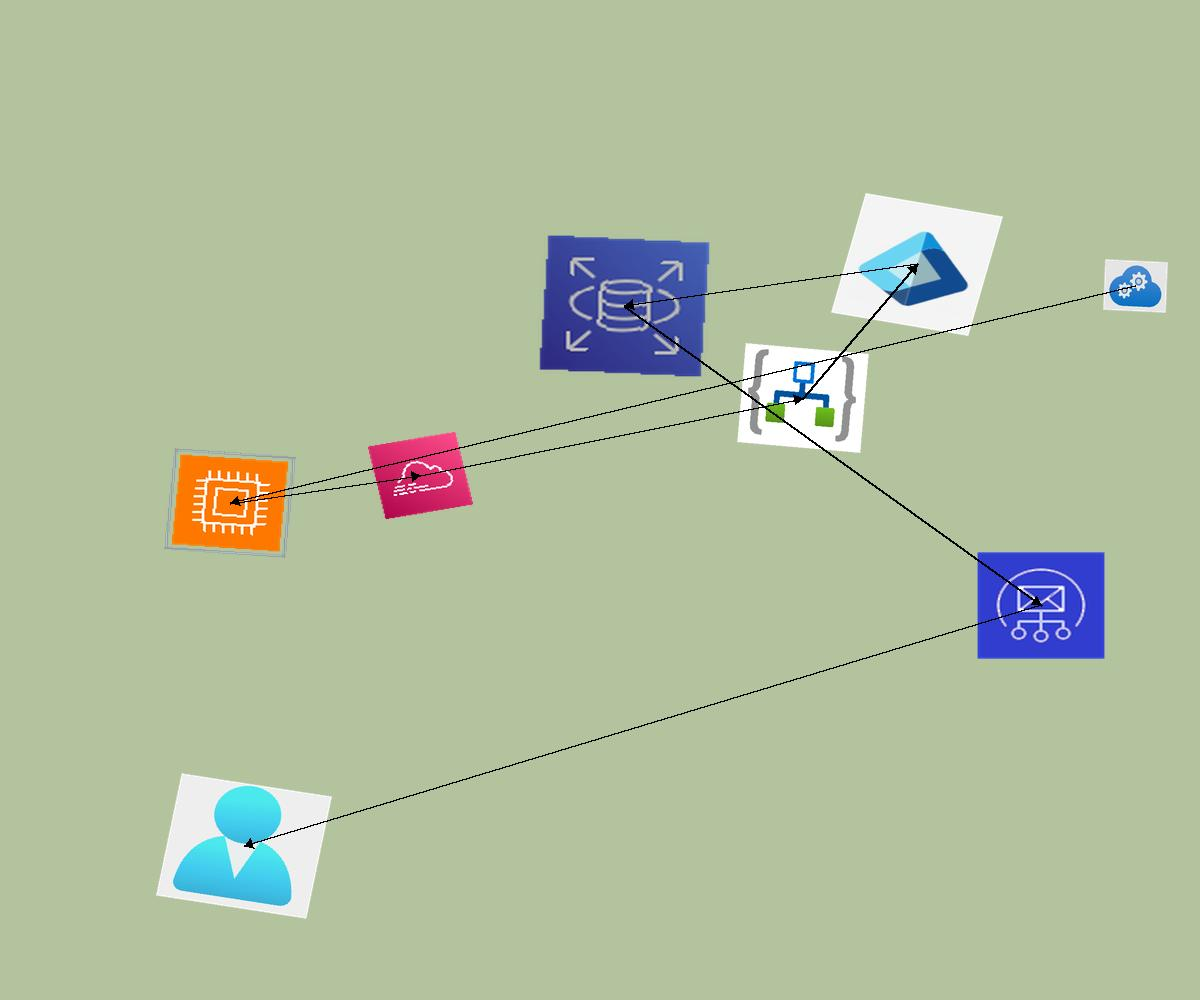AWS-Category_Compute: (164, 448, 296, 558)
AWS-CloudTrail: (367, 431, 474, 520)
AWS-RDS: (538, 234, 711, 378)
AWS-Simple-Email-Service: (976, 551, 1106, 660)
Azure_cloud_services: (1103, 259, 1168, 313)
Azure_integration-204-Logic-Apps: (737, 343, 869, 453)
Azure_microsoft_entra: (831, 193, 1003, 336)
Azure_users: (156, 773, 332, 919)
